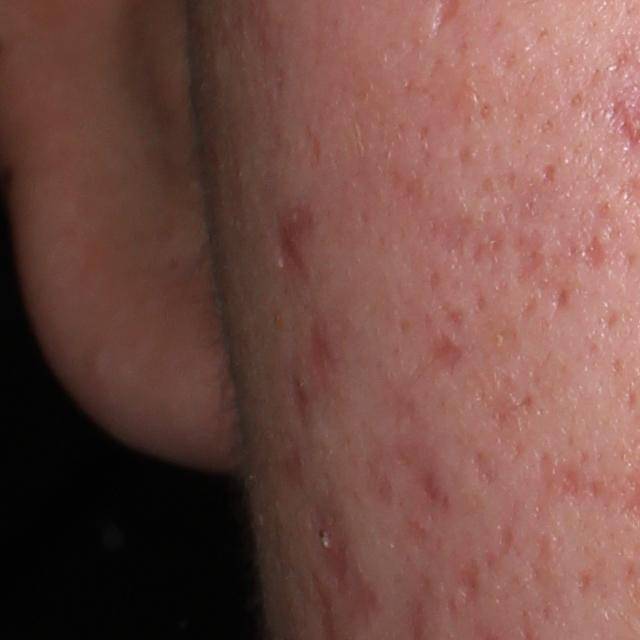atrophic_scar: (428, 200, 508, 276), (324, 537, 376, 632), (529, 451, 597, 522), (501, 198, 547, 283), (275, 195, 316, 283), (429, 330, 465, 378), (470, 446, 501, 490), (455, 562, 481, 606), (584, 234, 609, 272), (421, 467, 441, 507), (498, 520, 515, 557), (540, 158, 562, 186), (576, 567, 595, 596)
